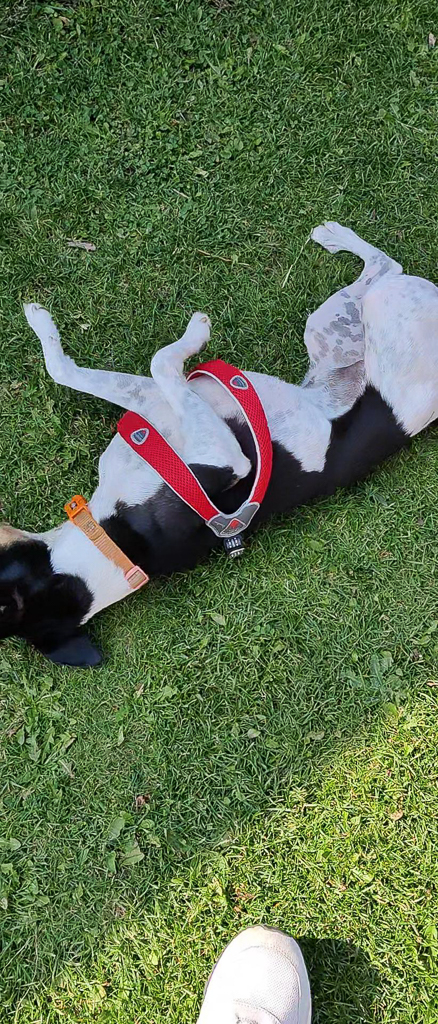Dog: (0, 198, 438, 691)
Humanoid: (179, 922, 331, 1024)
